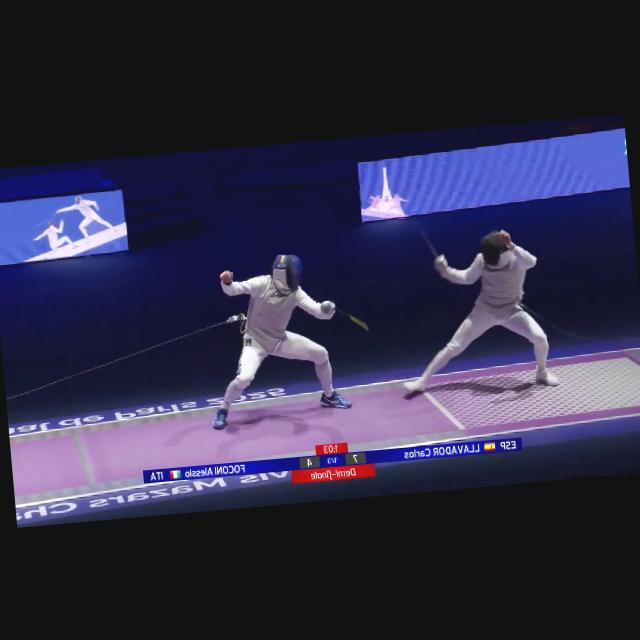blade: (408, 218, 446, 273), (321, 295, 370, 334)
